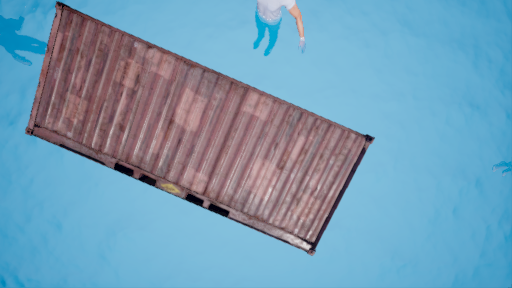person: (246, 1, 318, 60)
